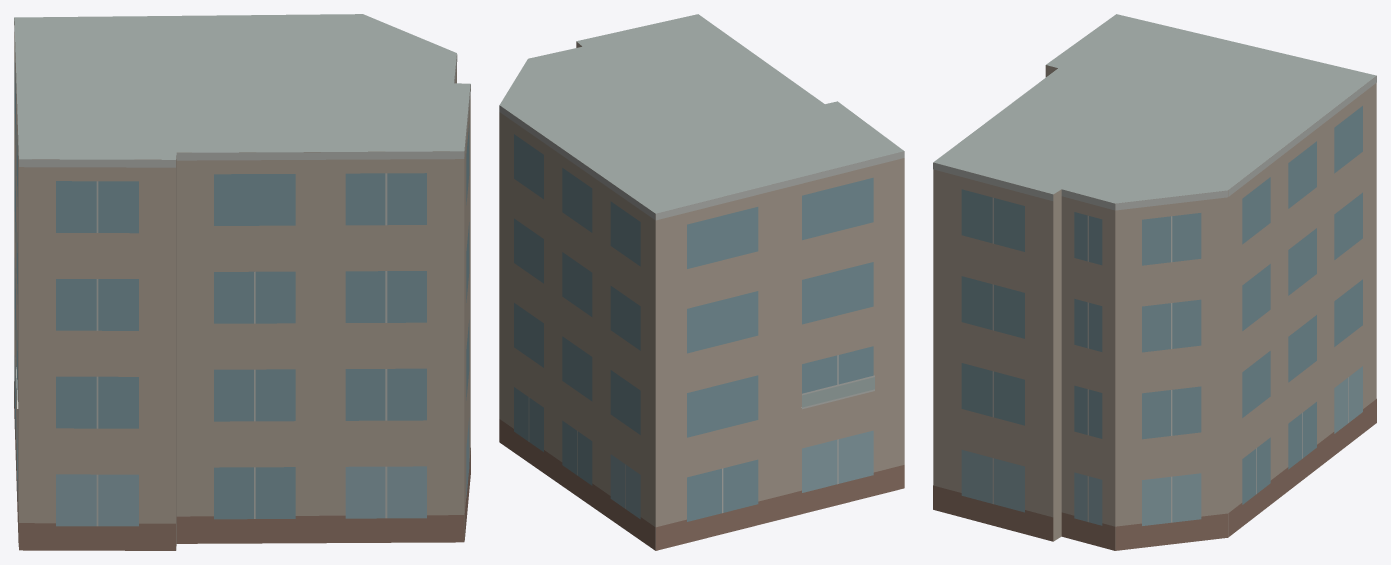
The model's file is survey-upis-32886233.glb.
3 views of the same model, side by side, from view 1: azimuth 30°, elevation 25°; view 2: azimuth 150°, elevation 25°; view 3: azimuth 270°, elevation 25° (orthographic). The views are drawn at different scales.
Visible parts, largest first — view 1: survey-upis-32886233.tmp; view 2: survey-upis-32886233.tmp; view 3: survey-upis-32886233.tmp.
Part boxes in pixels (bbox=[...]): survey-upis-32886233.tmp: bbox=[14, 14, 470, 550]; survey-upis-32886233.tmp: bbox=[499, 14, 904, 550]; survey-upis-32886233.tmp: bbox=[933, 14, 1376, 550].
Bounding box in the file's own units: 14.29 × 12.2 × 14.13.
